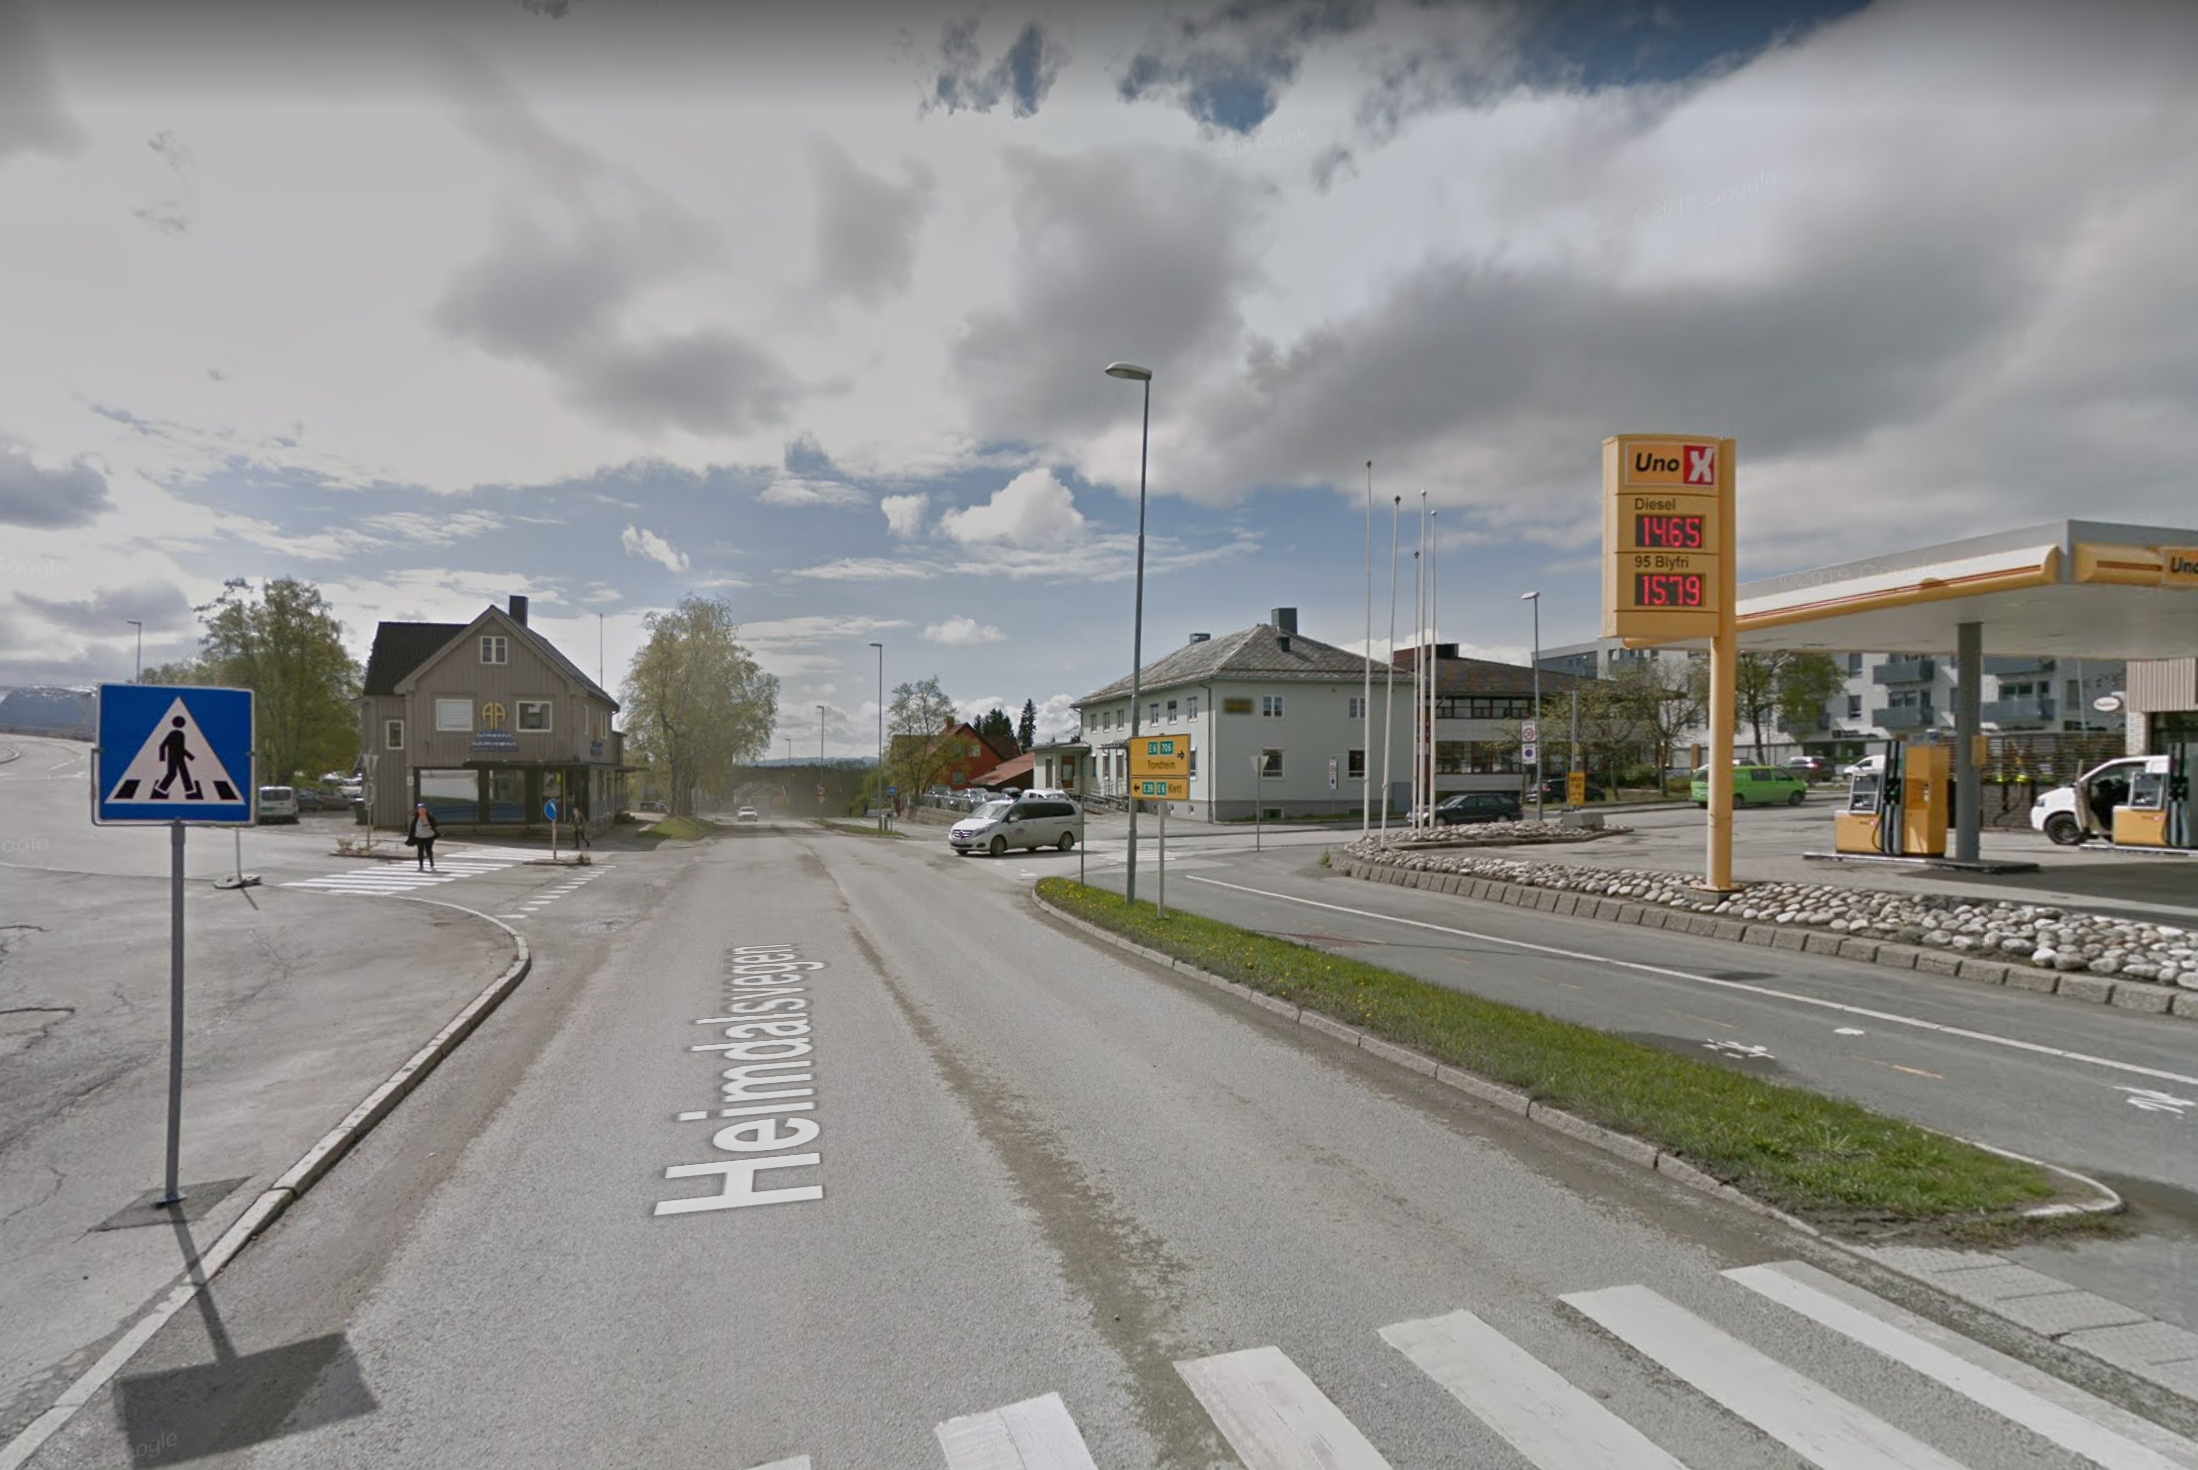fuel: (1599, 431, 1727, 638)
